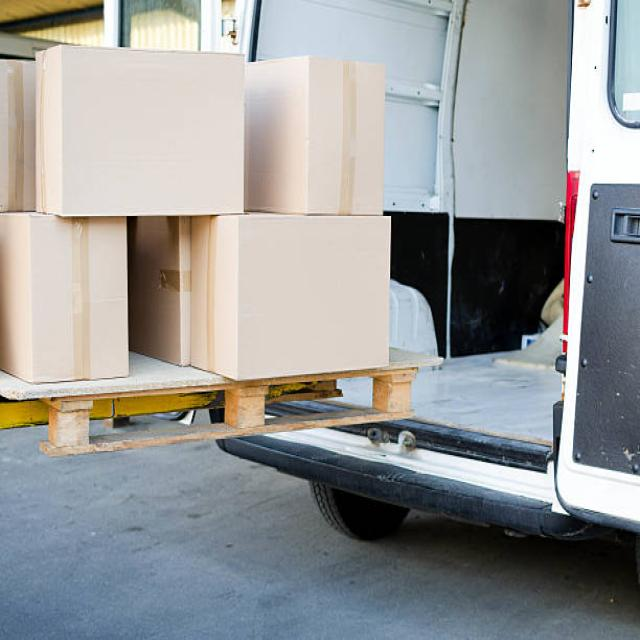Wooden-Pallets: (49, 366, 419, 459)
